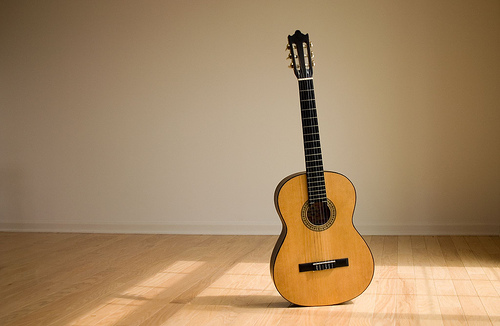guitar: (270, 30, 375, 306)
